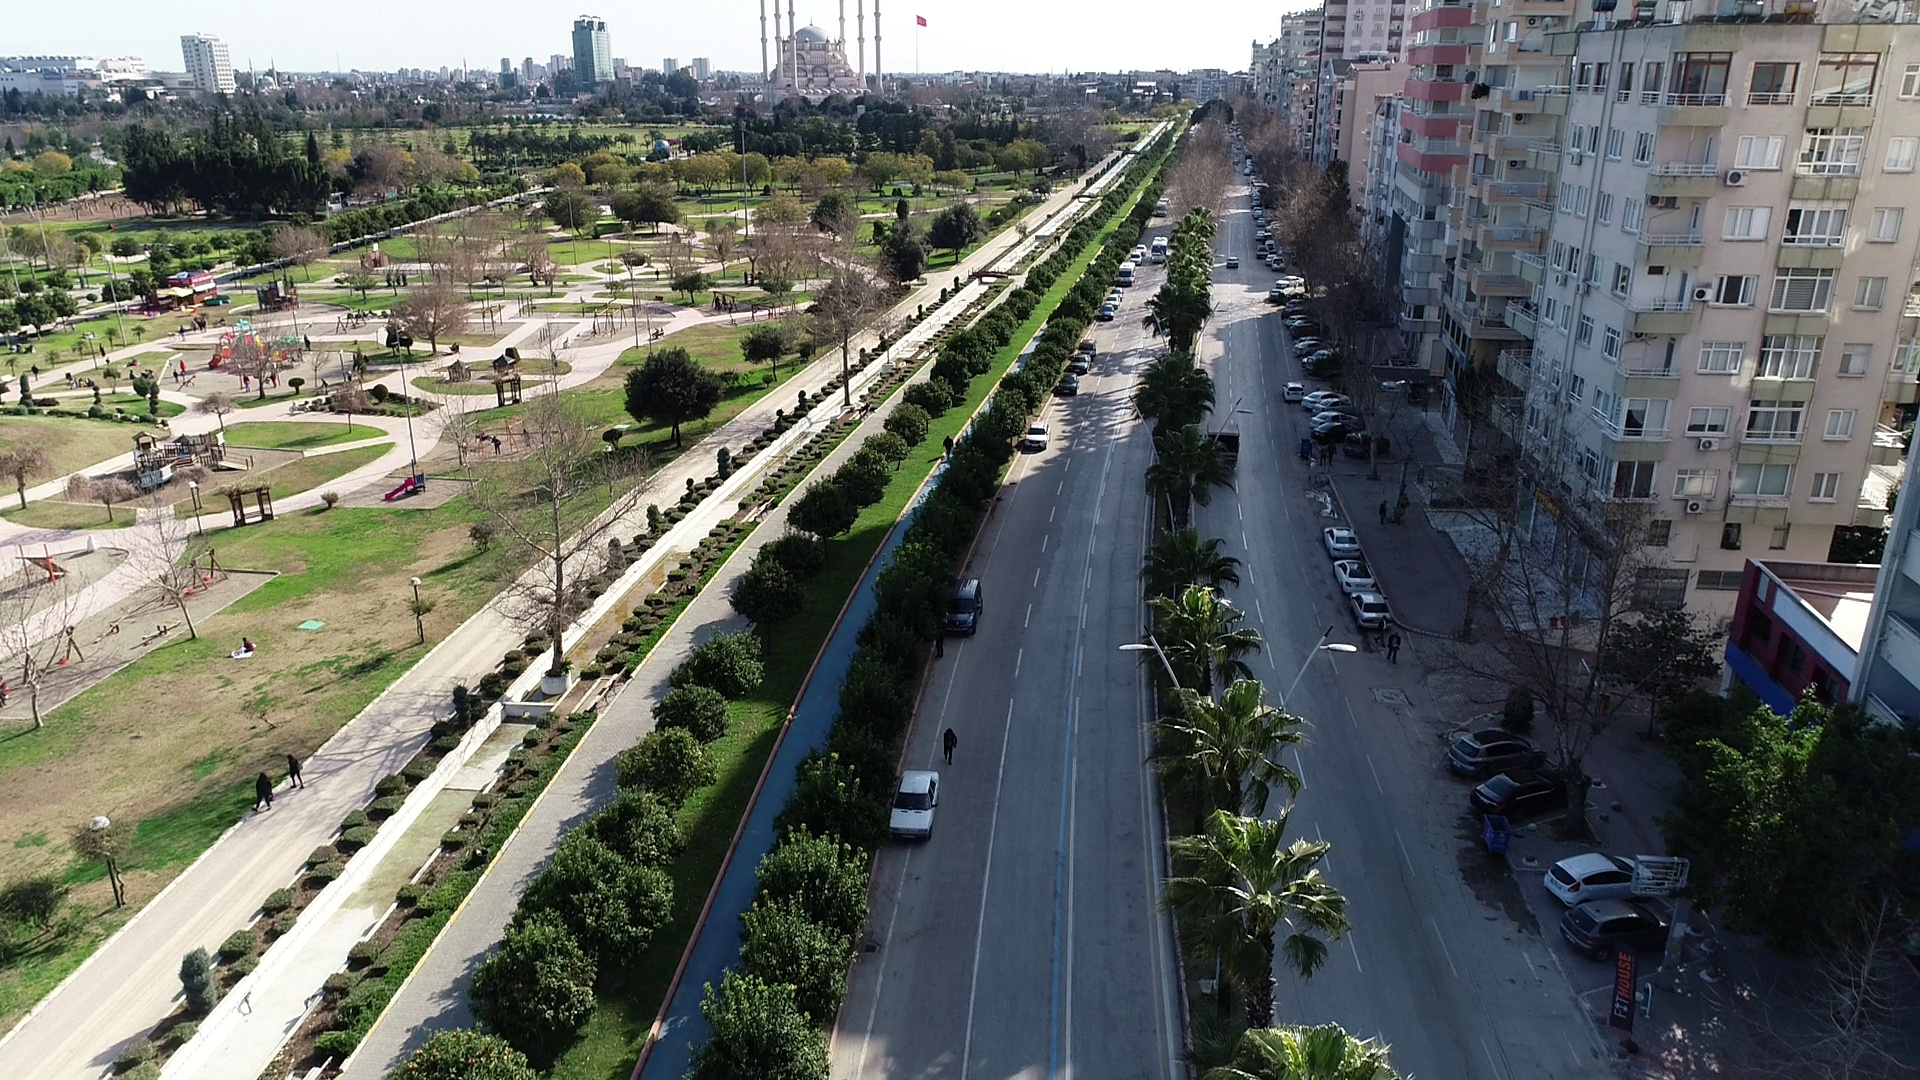car: (1557, 884, 1696, 959), (1533, 833, 1674, 900), (1443, 715, 1549, 784), (1468, 765, 1592, 819), (884, 763, 941, 851), (941, 570, 990, 641), (1312, 525, 1380, 568), (1323, 555, 1376, 596), (1343, 582, 1392, 623), (1019, 417, 1055, 455)
person: (276, 749, 304, 794), (251, 768, 276, 817), (1386, 633, 1414, 672), (931, 627, 953, 668), (939, 729, 963, 765), (1378, 612, 1400, 649), (1374, 496, 1398, 529), (235, 637, 255, 661)
